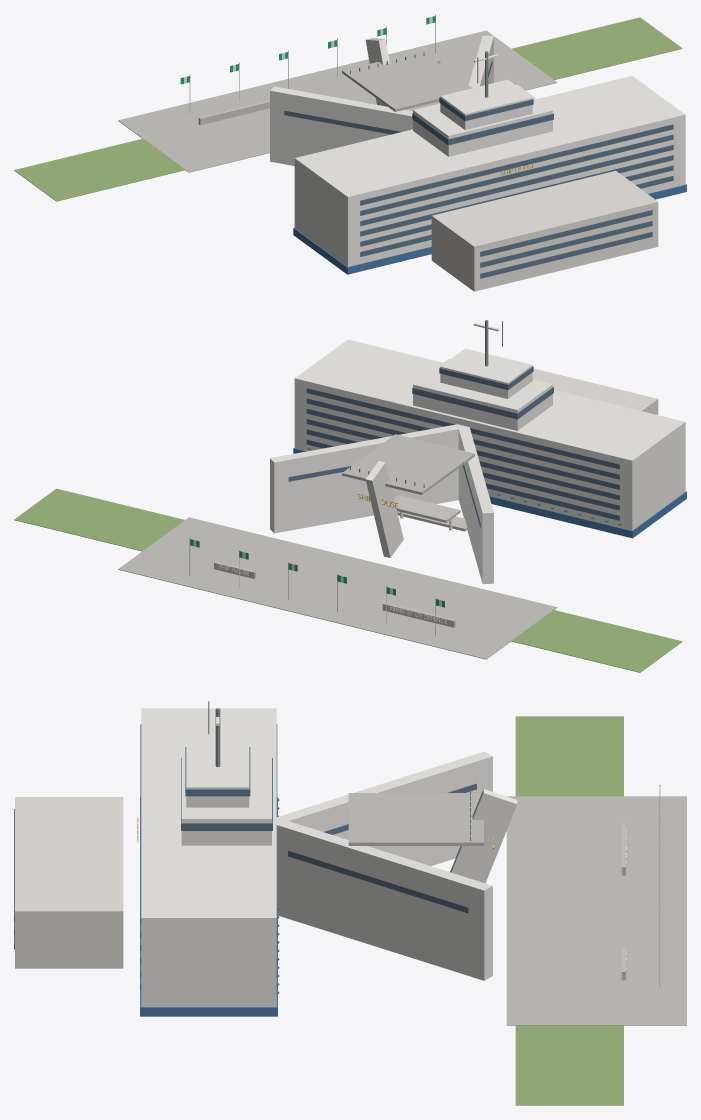
Rendered from ship_house.glb.
3 renders of one model, top to bottom at view 1: azimuth 30°, elevation 25°; view 2: azimuth 150°, elevation 25°; view 3: azimuth 270°, elevation 25°, orthographic. The views are drawn at different scales.
Visible parts, largest first — view 1: BLD_ship_house; view 2: BLD_ship_house; view 3: BLD_ship_house.
Boxes of the visible parts, x1,y1,x2,y2 form: BLD_ship_house: [14, 14, 686, 291]; BLD_ship_house: [14, 320, 686, 672]; BLD_ship_house: [14, 701, 686, 1105].
Size of the model in its own units: 204 by 50.96 by 149.
